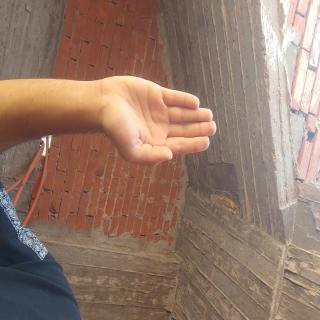SEEN: (49, 133, 127, 313)
